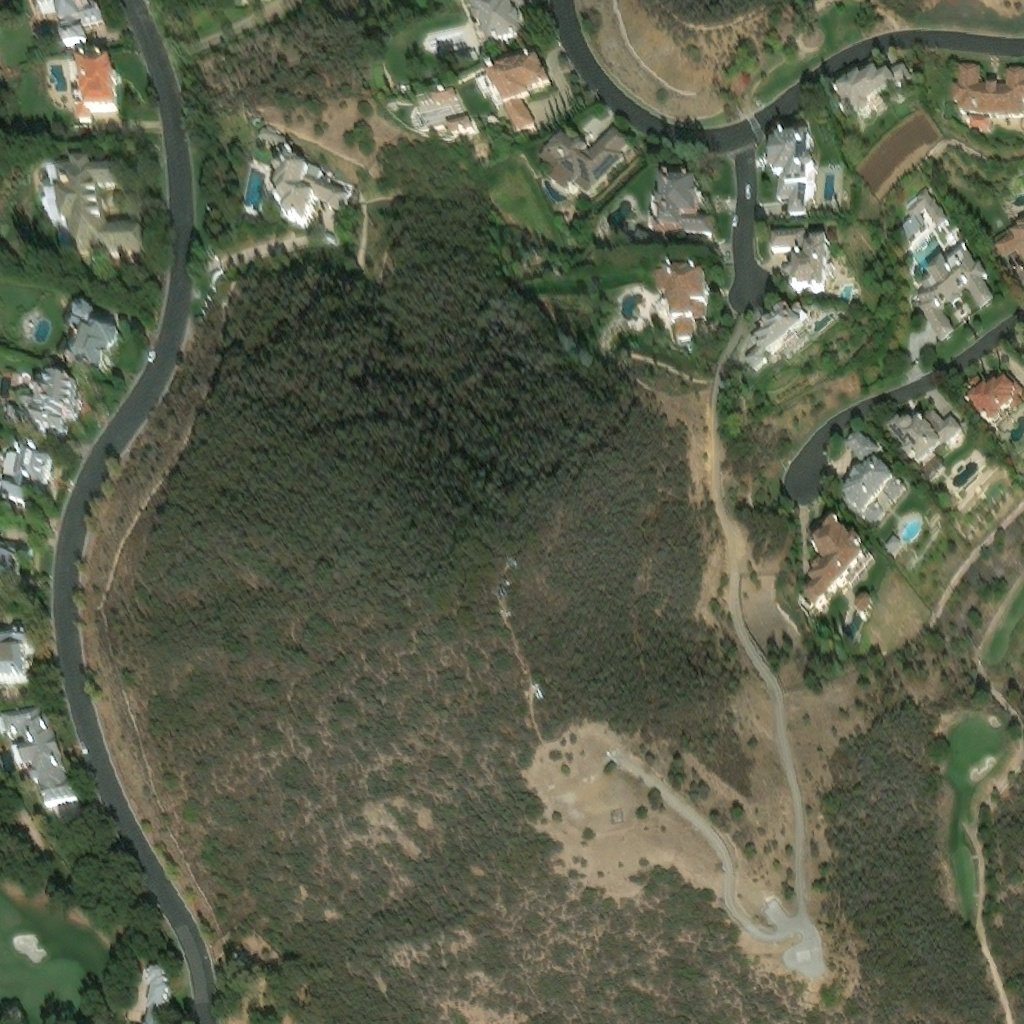0 no-damage: (43, 159, 139, 253), (913, 251, 998, 347), (0, 702, 74, 803), (841, 435, 913, 538), (802, 524, 879, 612), (471, 39, 547, 128), (886, 419, 969, 498), (537, 112, 623, 187), (952, 60, 1023, 136), (267, 145, 345, 213), (835, 68, 916, 130), (741, 297, 809, 369), (51, 287, 114, 360), (2, 366, 72, 426), (766, 223, 827, 290), (650, 256, 702, 328), (767, 131, 815, 208), (415, 80, 476, 136), (69, 53, 119, 121), (647, 162, 704, 219), (970, 388, 1023, 449), (37, 0, 103, 48), (0, 443, 49, 503), (900, 189, 949, 239), (467, 0, 518, 33), (0, 627, 29, 680), (147, 967, 170, 1023), (996, 227, 1023, 268), (256, 125, 284, 144), (886, 548, 909, 571), (451, 38, 473, 56), (856, 600, 875, 619), (966, 437, 978, 451)
